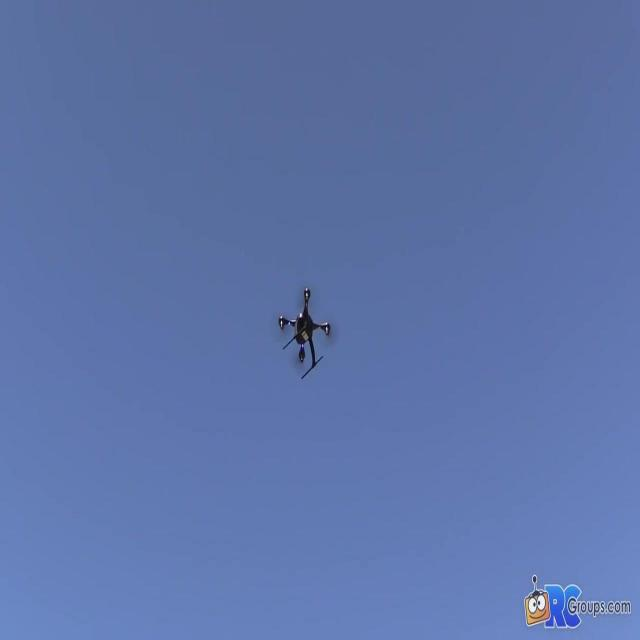UAV: (278, 287, 330, 380)
